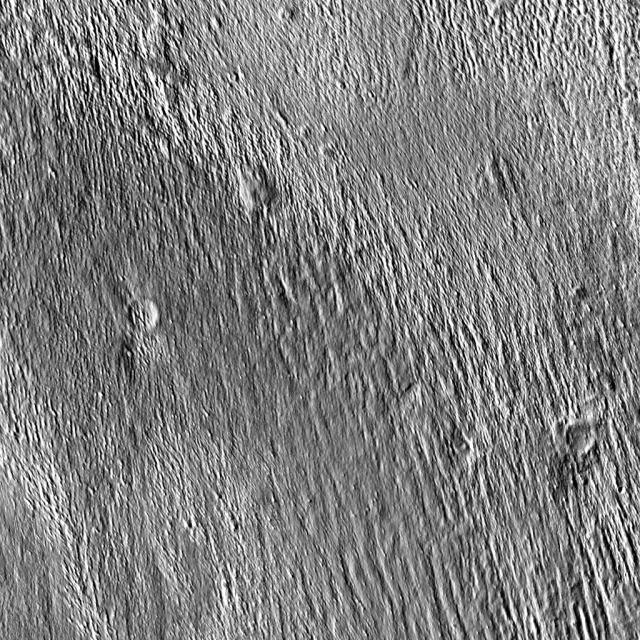crater: (130, 300, 163, 332), (570, 422, 600, 452), (614, 479, 622, 486)
